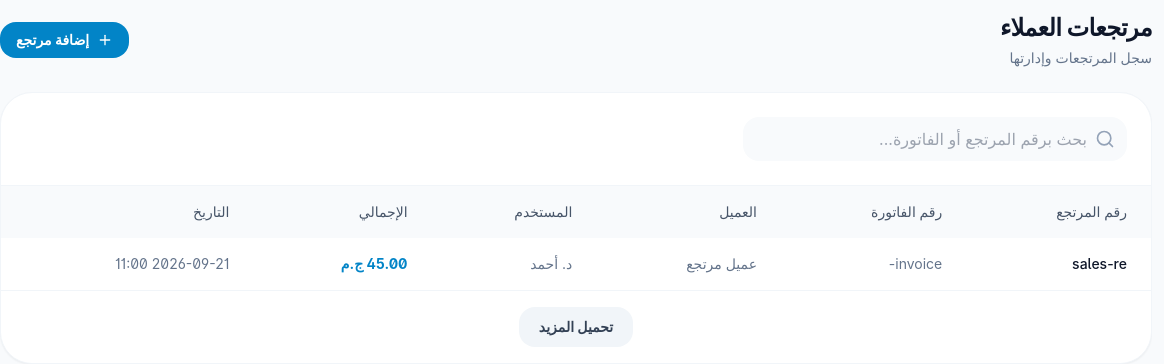
it: returns-list UI behavior › loads additional return-history pages without replacing the rows already shown
Expected: the text "عميل مرتجع" is shown, [596, 238, 781, 290]
Step 1. Click the button "تحميل المزيد" → click(576, 327), box [519, 307, 633, 347]
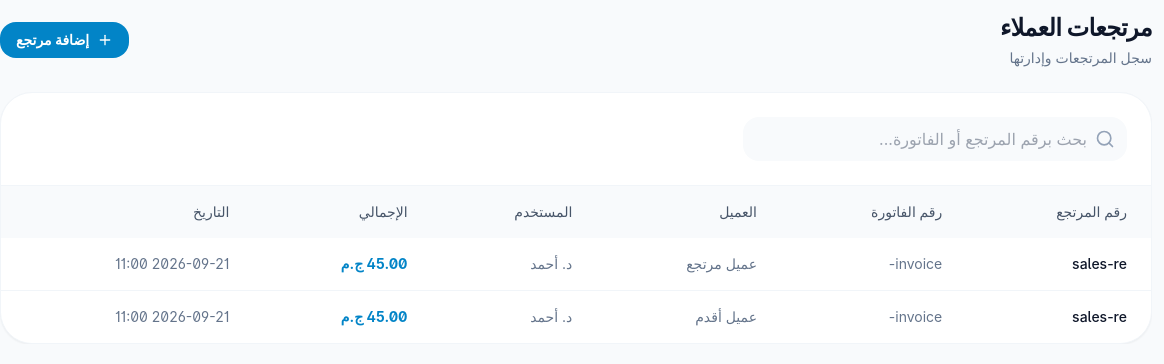
Expected: the text "عميل مرتجع" is shown, [596, 238, 781, 290]
Result: the text "عميل أقدم" is shown at [596, 290, 781, 343]
Result: the button "تحميل المزيد" is gone
